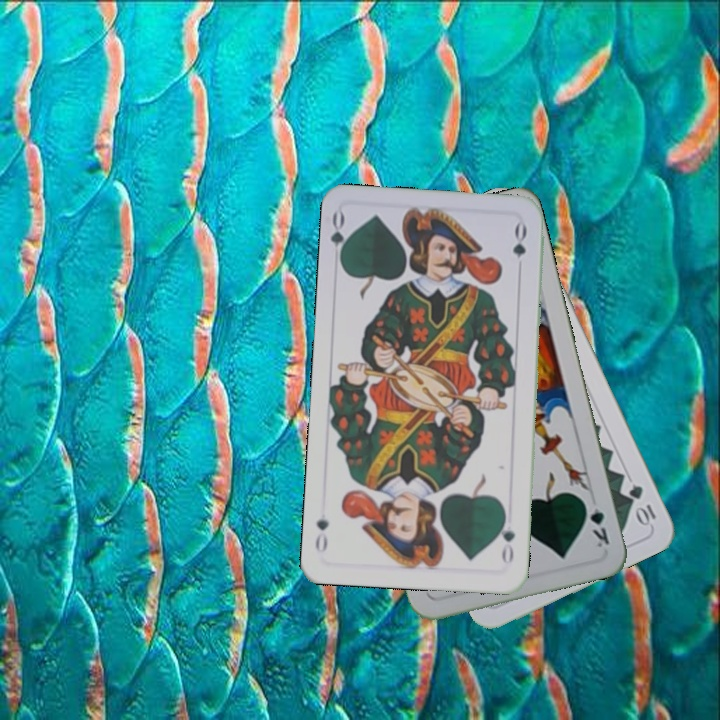G10: (625, 480, 659, 529)
GK: (579, 495, 612, 550)
GO: (326, 208, 354, 268), (495, 509, 518, 566)
